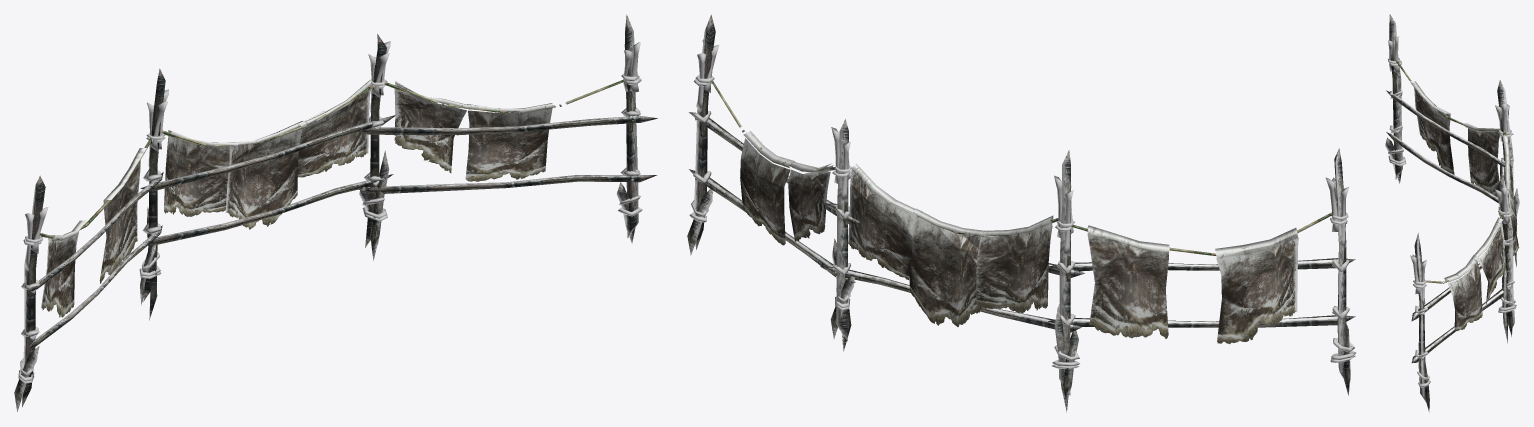
File: S_Build_Snowland051.FBX
3 renders of one model, left to right at view 1: azimuth 30°, elevation 25°; view 2: azimuth 150°, elevation 25°; view 3: azimuth 270°, elevation 25°, orthographic. The views are drawn at different scales.
Visible parts, largest first — view 1: S_Build_Snowland051; view 2: S_Build_Snowland051; view 3: S_Build_Snowland051.
Boxes of the visible parts, x1=… form: S_Build_Snowland051: x1=14, y1=14, x2=657, y2=411; S_Build_Snowland051: x1=687, y1=14, x2=1355, y2=412; S_Build_Snowland051: x1=1385, y1=14, x2=1519, y2=412.
Size of the model in its own units: 1058 by 399 by 257.
